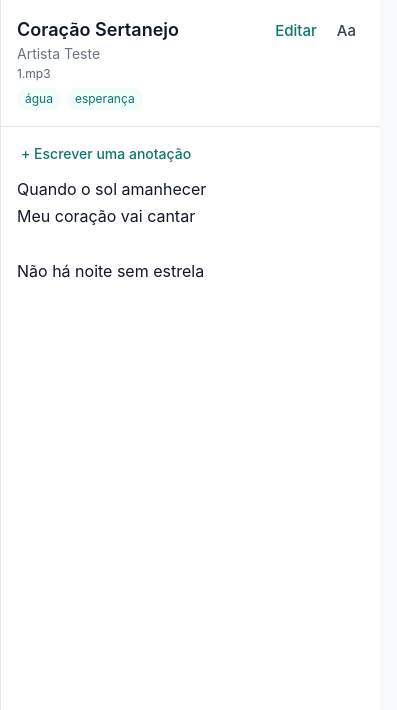
it: LyricsPanel — modo de edição (V4 F10) › roda o funil nesta música e mostra o resultado na própria ficha
The image size is (397, 710).
Expected: the text with test id "lyrics-body" is shown, [17,179,206,281]
Click the button "Editar".
click(296, 31)  # box [267,16,325,46]
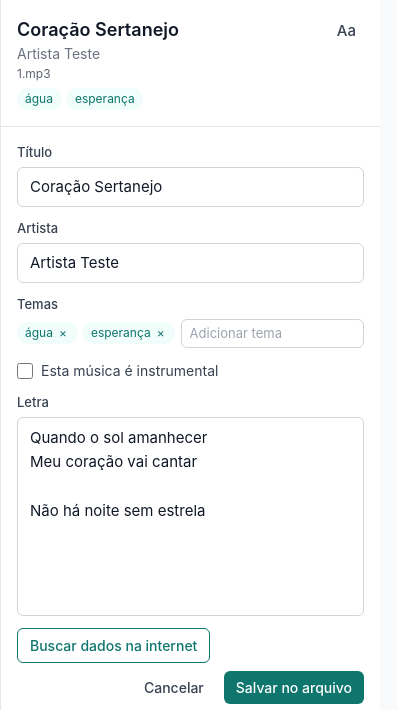
Click the button "Buscar dados na internet".
click(114, 646)  # box [17,628,210,663]
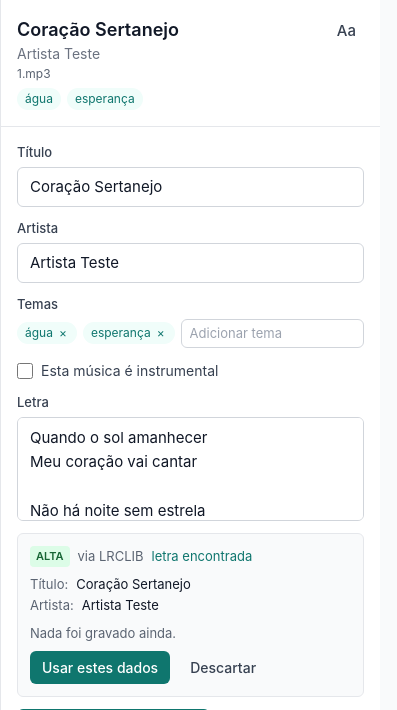
Result: the text "via LRCLIB" is shown at [78,546,144,566]
Result: the text "ALTA" is shown at [30,546,70,566]
Result: the text "letra encontrada" is shown at [152,546,252,566]
